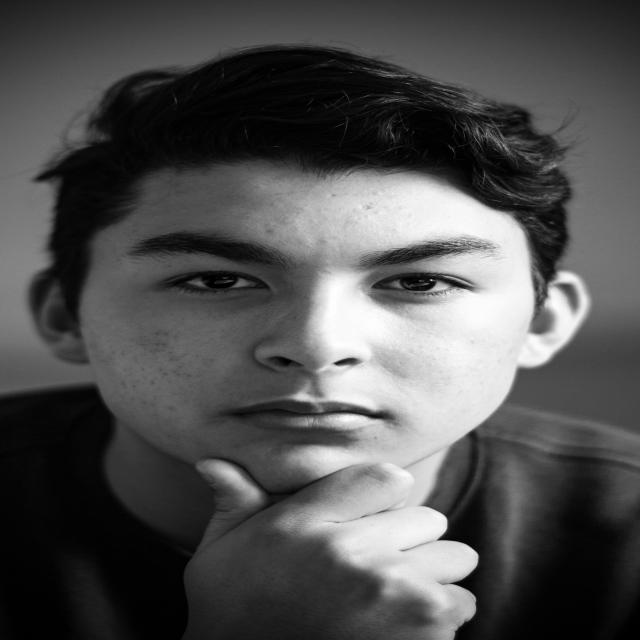human: (2, 41, 640, 640)
